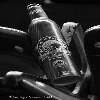beer: (24, 3, 80, 85)
